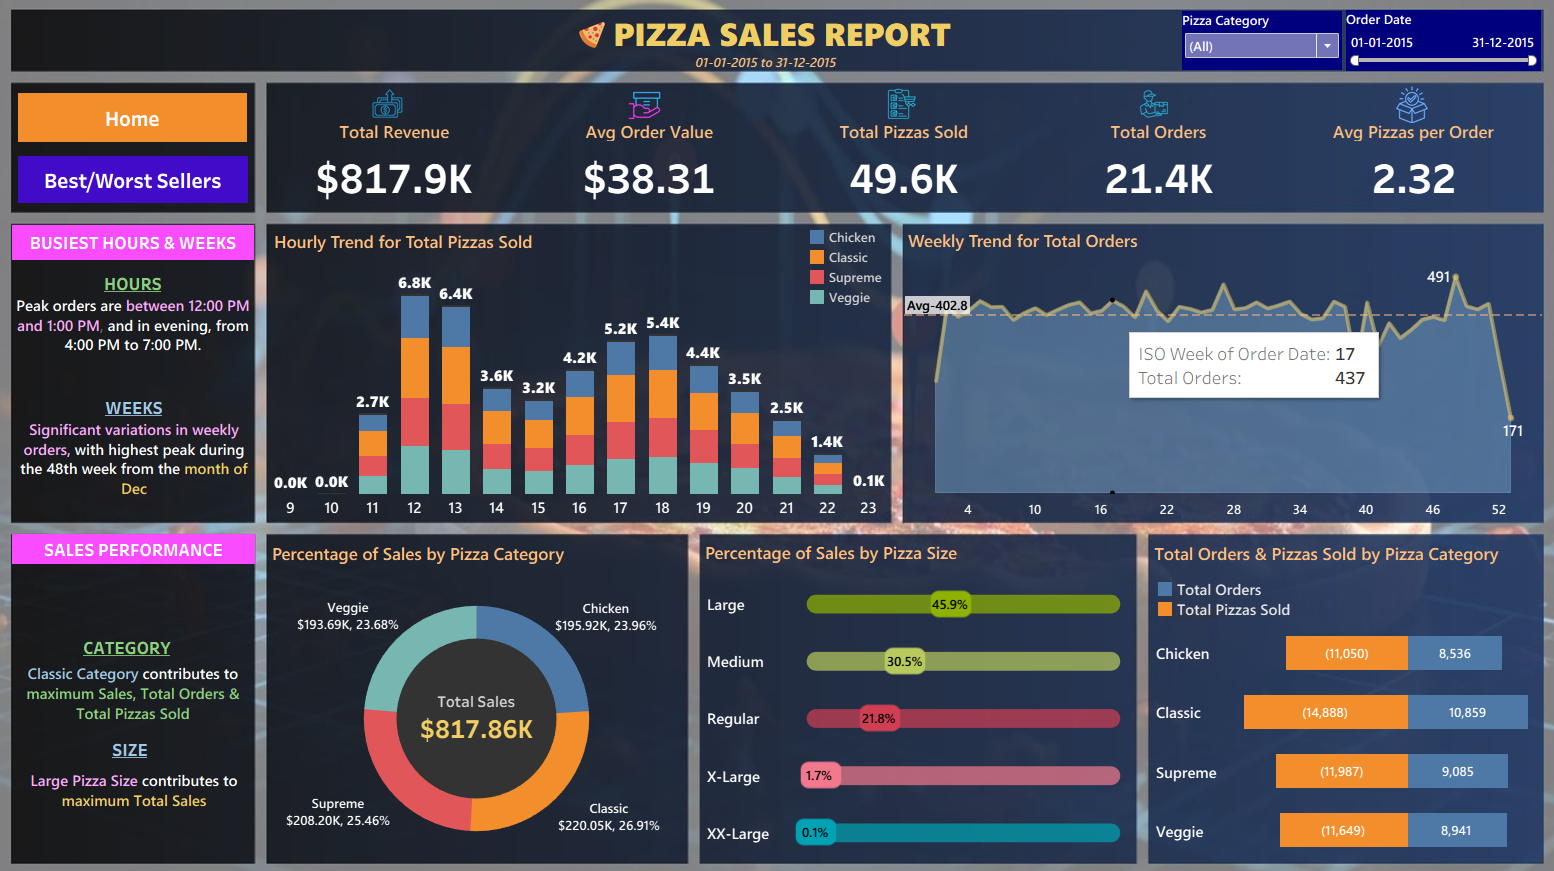

This screenshot's page, from the dashboard's own definition file:
{"tool":"tableau","page":{"name":"Home","canvas":[1600,900],"ordinal":1},"visuals":[{"type":"image","param":"Image/Pizza Tableau 1.jpg","box":[8,8,1584,884]},{"type":"filter","title":"Hourly Trend for Total Pizzas Sold","param":"[federated.1m17nnu1mc6e4z12mjsy1188o5pl].[none:order_date:qk]","box":[1368,22,195,61]},{"type":"text","box":[632,23,345,43]},{"type":"filter","title":"Hourly Trend for Total Pizzas Sold","param":"[federated.1m17nnu1mc6e4z12mjsy1188o5pl].[none:pizza_category:nk]","box":[1204,23,160,59]},{"type":"image","param":"Image/pizza-slice.png","box":[593,33,41,27]},{"type":"worksheet","title":"Date Range","mark":"Automatic","box":[699,63,177,21]},{"type":"image","param":"Image/profit-growth.png","box":[390,98,39,34]},{"type":"image","param":"Image/order (1).png","box":[1409,98,49,37]},{"type":"image","param":"Image/shipping-box.png","box":[642,99,48,36]},{"type":"image","param":"Image/order-delivery.png","box":[899,100,49,31]},{"type":"image","param":"Image/delivery-man.png","box":[1151,101,49,29]},{"type":"dashboard-object","box":[40,105,229,49]},{"type":"worksheet","title":"KPI Banner","mark":"Automatic","box":[289,133,1274,91]},{"type":"dashboard-object","box":[40,168,230,47]},{"type":"text","box":[34,237,242,35]},{"type":"worksheet","title":"Weekly Trend for Total Orders","mark":"Area","rows":["Calculation_342836543728701441","Calculation_342836543728701441"],"cols":["order_date"],"box":[926,237,638,294]},{"type":"worksheet","title":"Hourly Trend for Total Pizzas Sold","mark":"Bar","rows":["Calculation_342836543729020931","Calculation_342836543729020931"],"cols":["order_time"],"box":[292,238,620,292]},{"type":"legend","title":"Hourly Trend for Total Pizzas Sold","param":"[federated.1m17nnu1mc6e4z12mjsy1188o5pl].[none:pizza_category:nk]","box":[829,239,140,86]},{"type":"text","box":[34,273,242,104]},{"type":"text","box":[34,403,244,112]},{"type":"text","box":[34,546,243,30]},{"type":"worksheet","title":"Percentage of Sales by Pizza Size","mark":"Line","rows":["pizza_size"],"box":[723,549,434,324]},{"type":"worksheet","title":"Percentage of Sales by Pizza Category","mark":"Pie","rows":["Calculation_342836544030928902","Calculation_342836544030973960"],"box":[290,550,417,323]},{"type":"text","box":[1173,550,351,30]},{"type":"legend","title":"Total Orders & Pizzas Sold by Pizza Category","param":"[federated.1m17nnu1mc6e4z12mjsy1188o5pl].[:Measure Names]","box":[1177,591,342,52]},{"type":"worksheet","title":"Total Orders & Pizzas Sold by Pizza Category","mark":"Automatic","rows":["pizza_category"],"box":[1172,615,392,257]},{"type":"text","box":[99,644,100,30]},{"type":"text","box":[34,667,242,75]},{"type":"text","box":[102,746,100,30]},{"type":"text","box":[35,772,242,59]}]}

Visuals, with their boxes in screenshot pixels (x1, y1, x2, y2), scaled from the page's 1600x900 canvas onto the 1554x871 screenshot:
image: [x1=8, y1=8, x2=1546, y2=863]
"Hourly Trend for Total Pizzas Sold" filter: [x1=1329, y1=21, x2=1518, y2=80]
text: [x1=614, y1=22, x2=949, y2=64]
"Hourly Trend for Total Pizzas Sold" filter: [x1=1169, y1=22, x2=1325, y2=79]
image: [x1=576, y1=32, x2=616, y2=58]
"Date Range" worksheet: [x1=679, y1=61, x2=851, y2=81]
image: [x1=379, y1=95, x2=417, y2=128]
image: [x1=1368, y1=95, x2=1416, y2=131]
image: [x1=624, y1=96, x2=670, y2=131]
image: [x1=873, y1=97, x2=921, y2=127]
image: [x1=1118, y1=98, x2=1166, y2=126]
dashboard-object: [x1=39, y1=102, x2=261, y2=149]
"KPI Banner" worksheet: [x1=281, y1=129, x2=1518, y2=217]
dashboard-object: [x1=39, y1=163, x2=262, y2=208]
text: [x1=33, y1=229, x2=268, y2=263]
"Weekly Trend for Total Orders" worksheet (Area marks): [x1=899, y1=229, x2=1519, y2=514]
"Hourly Trend for Total Pizzas Sold" worksheet (Bar marks): [x1=284, y1=230, x2=886, y2=513]
"Hourly Trend for Total Pizzas Sold" legend: [x1=805, y1=231, x2=941, y2=315]
text: [x1=33, y1=264, x2=268, y2=365]
text: [x1=33, y1=390, x2=270, y2=498]
text: [x1=33, y1=528, x2=269, y2=557]
"Percentage of Sales by Pizza Size" worksheet (Line marks): [x1=702, y1=531, x2=1124, y2=845]
"Percentage of Sales by Pizza Category" worksheet (Pie marks): [x1=282, y1=532, x2=687, y2=845]
text: [x1=1139, y1=532, x2=1480, y2=561]
"Total Orders & Pizzas Sold by Pizza Category" legend: [x1=1143, y1=572, x2=1475, y2=622]
"Total Orders & Pizzas Sold by Pizza Category" worksheet: [x1=1138, y1=595, x2=1519, y2=844]
text: [x1=96, y1=623, x2=193, y2=652]
text: [x1=33, y1=646, x2=268, y2=718]
text: [x1=99, y1=722, x2=196, y2=751]
text: [x1=34, y1=747, x2=269, y2=804]
